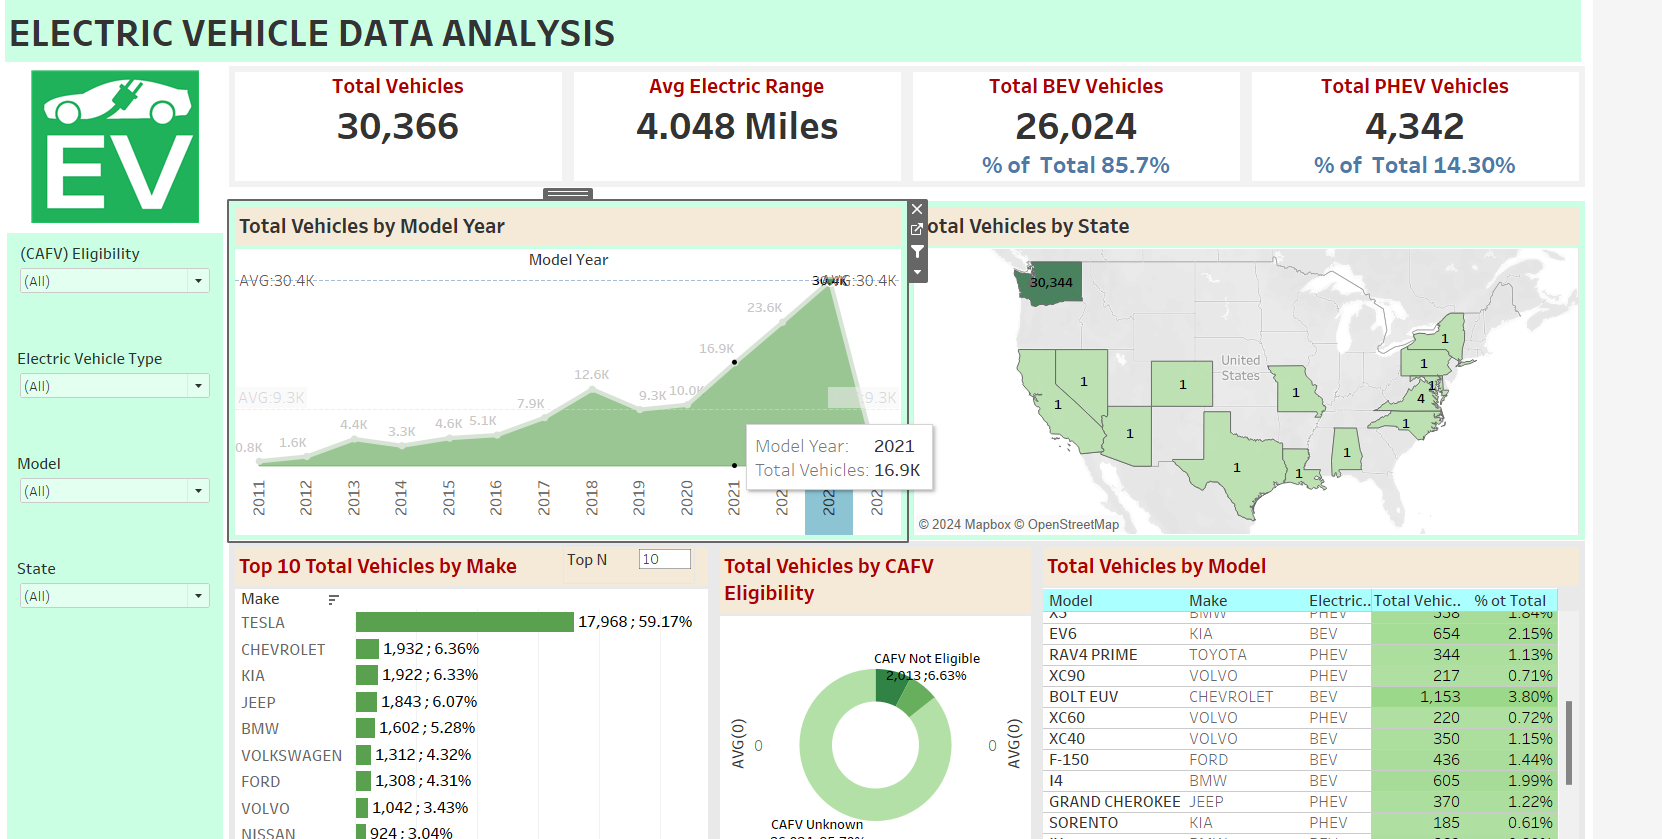

This screenshot's page, from the dashboard's own definition file:
{"tool":"tableau","page":{"name":"Dashboard 1","canvas":[1600,900],"ordinal":0},"visuals":[{"type":"title","box":[8,8,1584,70]},{"type":"image","param":"Image/Screenshot 2024-10-04 144347.png","box":[8,78,228,161]},{"type":"worksheet","title":"Total Vehicles","mark":"Automatic","box":[236,78,339,121]},{"type":"worksheet","title":"Average Electric Range ","mark":"Automatic","box":[575,78,339,121]},{"type":"worksheet","title":"Total BEV Vehicles","mark":"Automatic","box":[914,78,339,121]},{"type":"worksheet","title":"Total PHEV Vehicles ","mark":"Automatic","box":[1253,78,339,121]},{"type":"worksheet","title":"Total Vehicles by Model Year ","mark":"Area","rows":["Calculation_1354176181559136256","Calculation_1354176181559136256"],"cols":["Model Year"],"box":[236,213,678,340]},{"type":"worksheet","title":"Total Vehicles by State","mark":"Multipolygon","box":[914,213,678,340]},{"type":"filter","title":"Total Vehicles by Model Year ","param":"[federated.1vgzm4u0xuegvl1fv101d1dk299p].[none:Clean Alternative Fuel Vehicle (C","box":[20,251,204,105]},{"type":"filter","title":"Total Vehicles by Model Year ","param":"[federated.1vgzm4u0xuegvl1fv101d1dk299p].[none:Electric Vehicle Type:nk]","box":[20,356,204,105]},{"type":"filter","title":"Total Vehicles by Model Year ","param":"[federated.1vgzm4u0xuegvl1fv101d1dk299p].[none:Model:nk]","box":[20,461,204,105]},{"type":"worksheet","title":"Top 10 Total Vehicles by Make","mark":"Automatic","rows":["Make"],"cols":["Calculation_1354176181559136256"],"box":[236,552.5,485,339.5]},{"type":"worksheet","title":"Total Vehicles by CAFV Eligibility","mark":"Pie","rows":["Calculation_1354176181576347658","Calculation_1354176181576347658"],"box":[721,552.5,323,339.5]},{"type":"worksheet","title":"Total Vehicles by Model","mark":"Square","rows":["Model","Make","Electric Vehicle Type"],"box":[1044,552.5,548,339.5]},{"type":"parameter","param":"[Parameters].[Parameter 1]","box":[570,557,132,39]},{"type":"filter","title":"Total Vehicles by Model Year ","param":"[federated.1vgzm4u0xuegvl1fv101d1dk299p].[none:State:nk]","box":[20,566,204,105]},{"type":"blank","box":[20,671,204,105]},{"type":"blank","box":[20,776,204,104]}]}

Visuals, with their boxes on the page's 1600x900 design canvas (x1, y1, x2, y2). These are canvas units, not pixel positions in the 1662x839 screenshot, which may show the page scaled, cropped or inside an application window:
title: region(8, 8, 1592, 78)
image: region(8, 78, 236, 239)
"Total Vehicles" worksheet: region(236, 78, 575, 199)
"Average Electric Range " worksheet: region(575, 78, 914, 199)
"Total BEV Vehicles" worksheet: region(914, 78, 1253, 199)
"Total PHEV Vehicles " worksheet: region(1253, 78, 1592, 199)
"Total Vehicles by Model Year " worksheet (Area marks): region(236, 213, 914, 553)
"Total Vehicles by State" worksheet (Multipolygon marks): region(914, 213, 1592, 553)
"Total Vehicles by Model Year " filter: region(20, 251, 224, 356)
"Total Vehicles by Model Year " filter: region(20, 356, 224, 461)
"Total Vehicles by Model Year " filter: region(20, 461, 224, 566)
"Top 10 Total Vehicles by Make" worksheet: region(236, 552, 721, 892)
"Total Vehicles by CAFV Eligibility" worksheet (Pie marks): region(721, 552, 1044, 892)
"Total Vehicles by Model" worksheet (Square marks): region(1044, 552, 1592, 892)
parameter: region(570, 557, 702, 596)
"Total Vehicles by Model Year " filter: region(20, 566, 224, 671)
blank: region(20, 671, 224, 776)
blank: region(20, 776, 224, 880)
